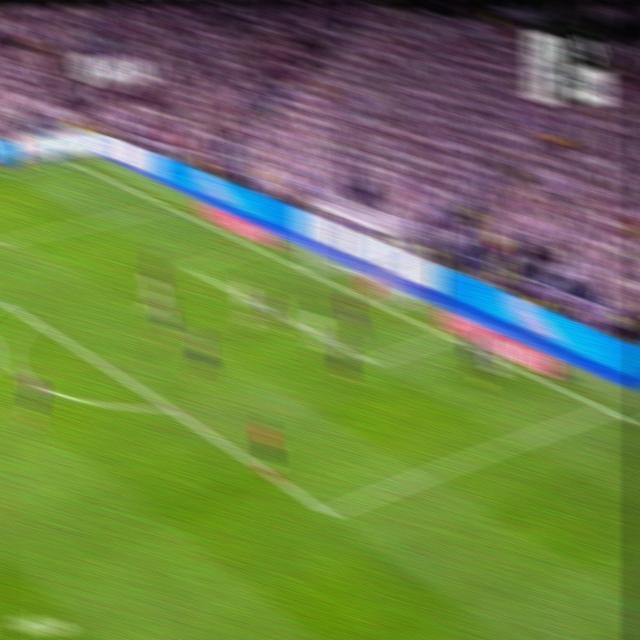bigarea_bottom_inner: (316, 496, 338, 528)
bigarea_bottom_outter: (596, 397, 615, 419)
bigarea_top_outter: (156, 195, 175, 214)
bottom_arc_area_intersection: (154, 391, 178, 420)
corner: (61, 154, 80, 168)
smallarea_bottom_inner: (361, 349, 378, 373)
smallarea_bottom_outter: (437, 326, 455, 345)
smallarea_top_inner: (178, 255, 197, 277)
